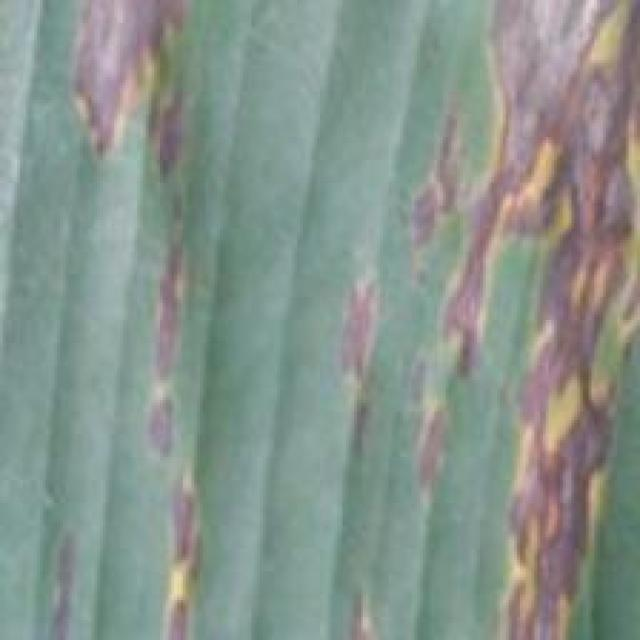Early_leaf_spot: (384, 0, 640, 640), (111, 217, 220, 640), (52, 0, 209, 209), (312, 238, 391, 420), (29, 523, 90, 638)
